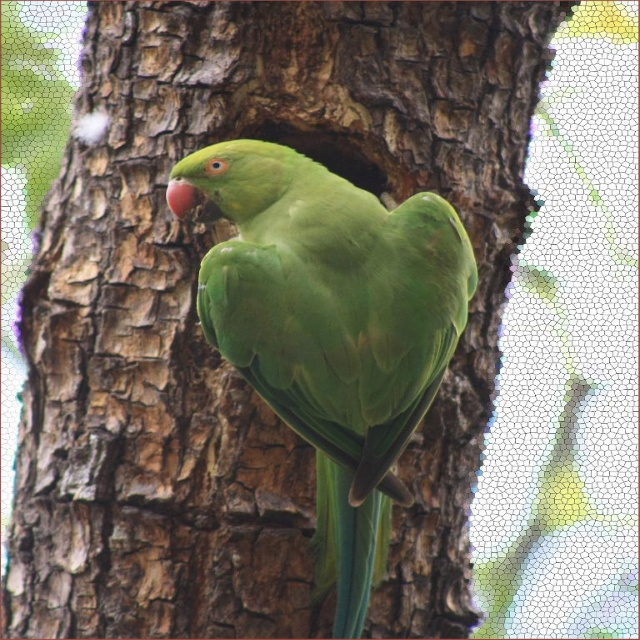Parrot: (168, 139, 481, 639)
